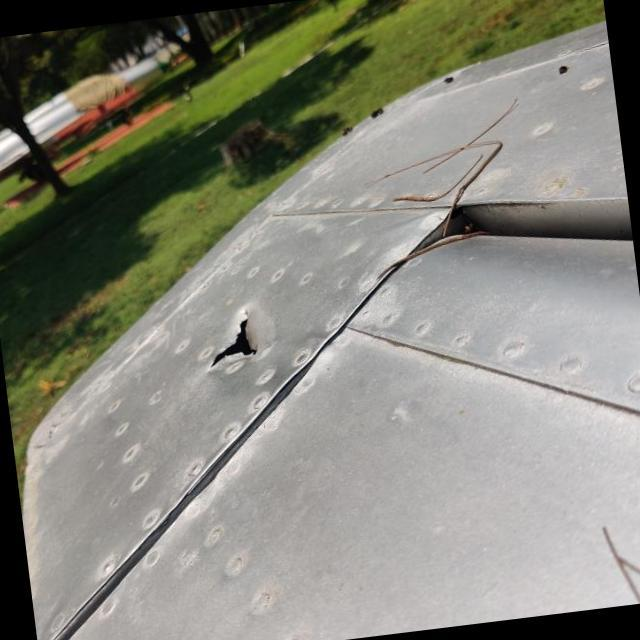Rupture: (188, 296, 277, 382)
